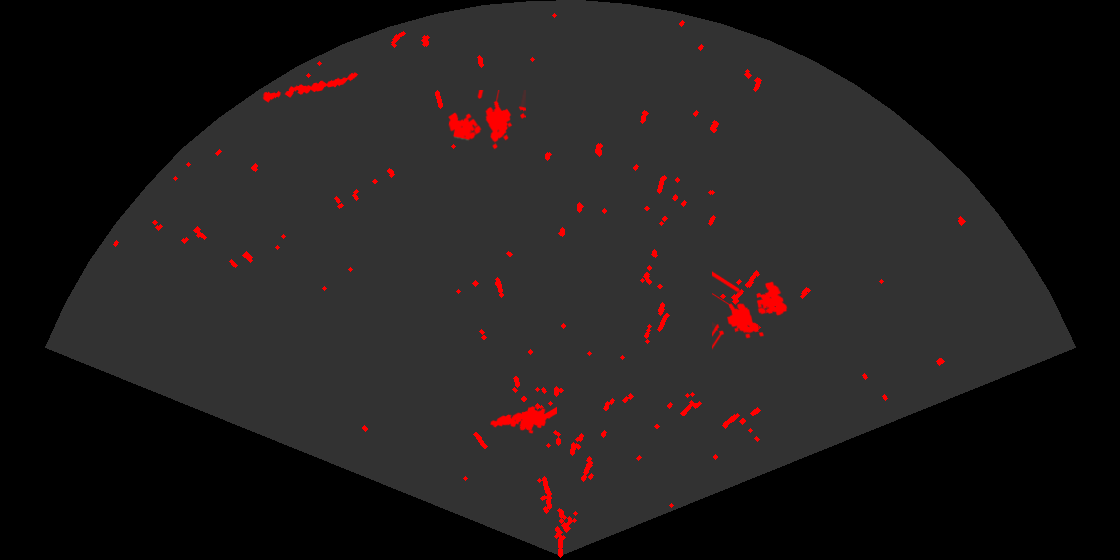cage: (712, 269, 789, 351), (447, 90, 526, 151)
chain: (260, 71, 360, 104)
frogman: (489, 405, 557, 435)
